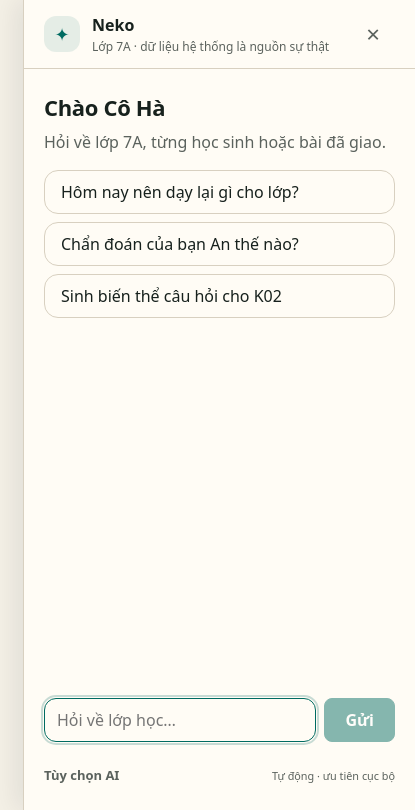
it: NekoDock agent session › shows an assignment preview and writes only after the teacher confirms
This screenshot has width=415, height=810.
Expected: the heading "Chào Cô Hà" is shown, [44,92,165,122]
In the text box named "Câu hỏi cho Neko": (180, 720) [44,698,316,742], type "Giao bài tập cho lớp đi"
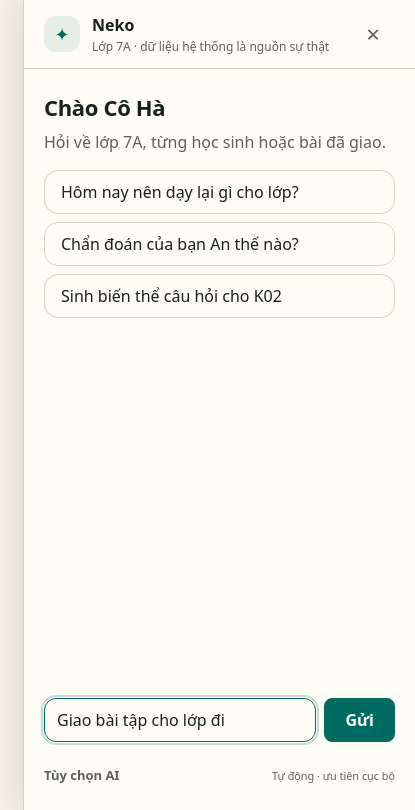
Click the button "Gửi": (360, 720) [324,698,395,742]
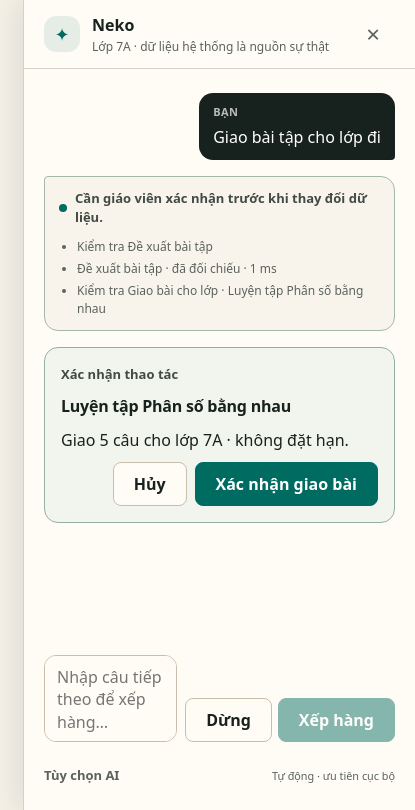
Result: the heading "Luyện tập Phân số bằng nhau" is shown at [61,394,291,416]
Result: the text "Giao 5 câu cho lớp 7A · không đặt hạn." is shown at [61,428,378,452]
Click the button "Xác nhận giao bài": (286, 484) [194,462,378,506]
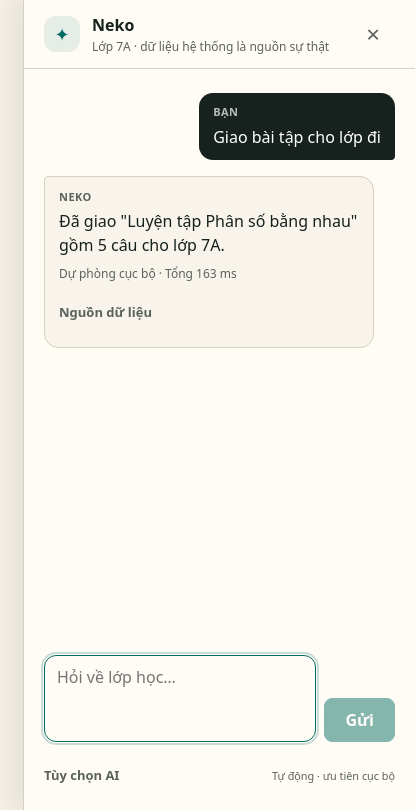
Result: the text "Đã giao \"Luyện tập Phân số bằng nhau\" gồm 5 câu cho lớp 7A." is shown at [59,209,359,257]
